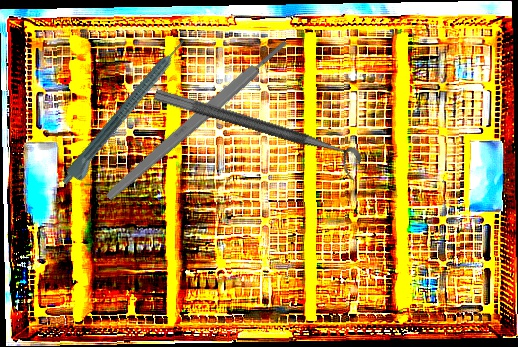Fixation Ring: (147, 87, 365, 182)
Handpiece: (58, 35, 196, 193)
Scalpel Handle: (103, 37, 291, 203)
